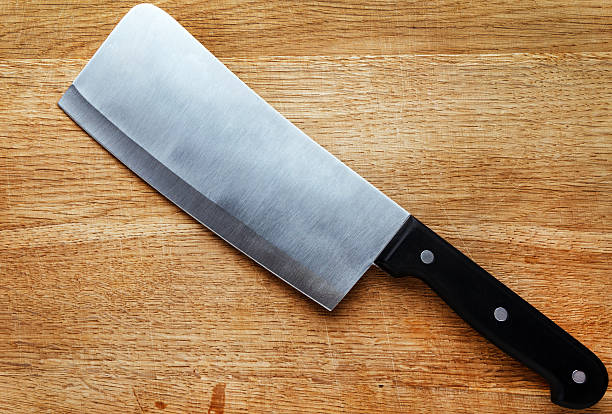knife: (54, 2, 610, 413)
